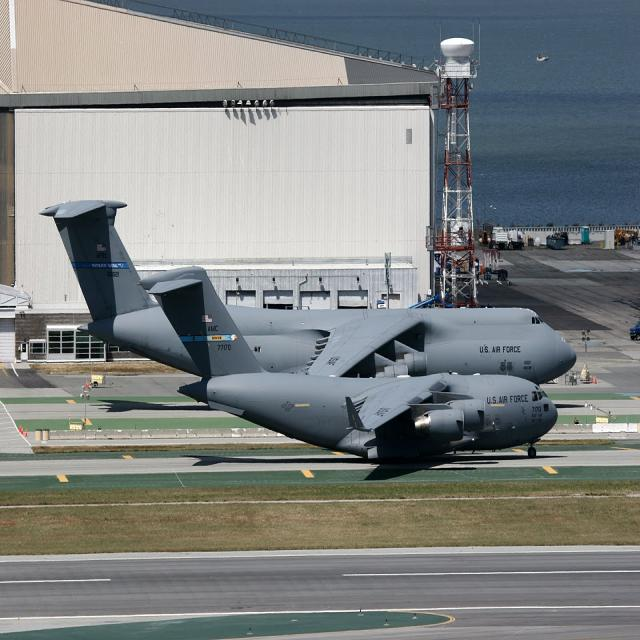MIL_Plane: (134, 261, 558, 459), (217, 195, 308, 383)
